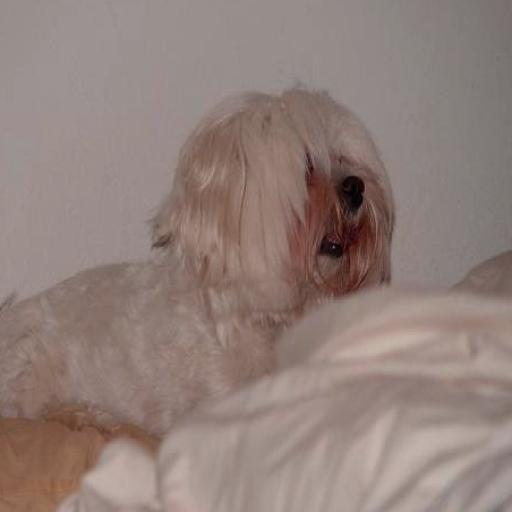dog_face: (187, 88, 396, 300)
